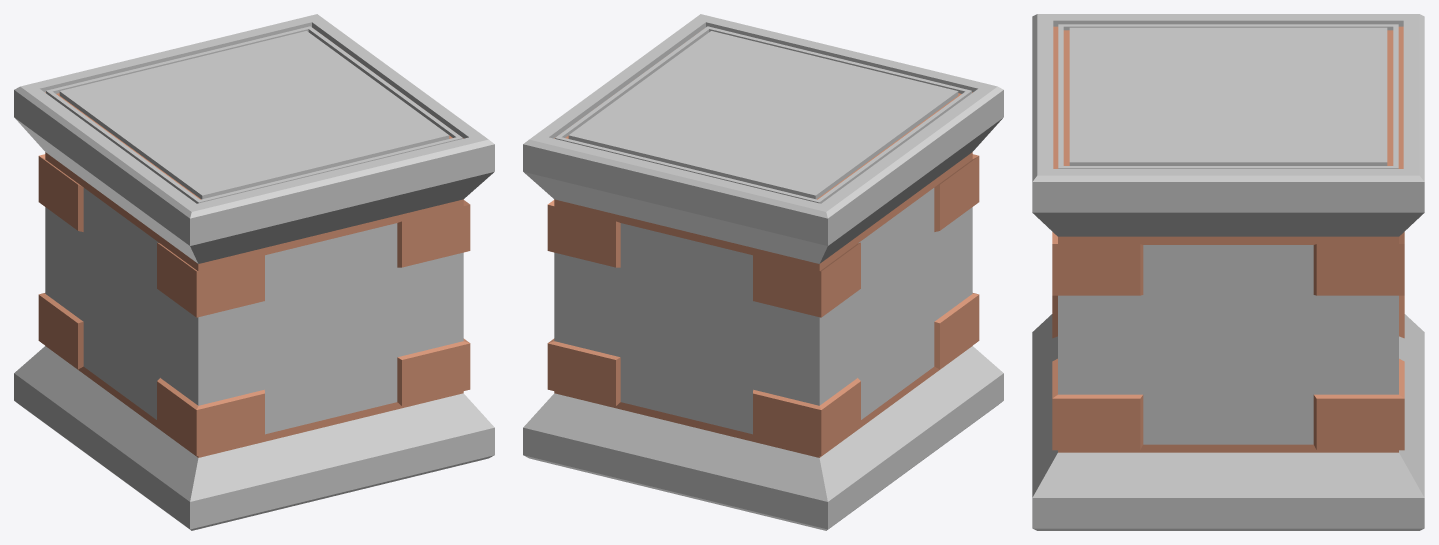
Rendered from Basic2_orig.fbx.
The picture shows the model from 3 angles, left to right: view 1: azimuth 30°, elevation 25°; view 2: azimuth 150°, elevation 25°; view 3: azimuth 270°, elevation 25°; orthographic projection. The views are drawn at different scales.
Parts seen in each view (by area): view 1: Cube.008; view 2: Cube.008; view 3: Cube.008.
Boxes of the visible parts, bbox=[...] form: Cube.008: bbox=[14, 14, 494, 530]; Cube.008: bbox=[523, 14, 1003, 530]; Cube.008: bbox=[1032, 14, 1424, 530].
Size of the model in its own units: 100 by 100 by 100.
